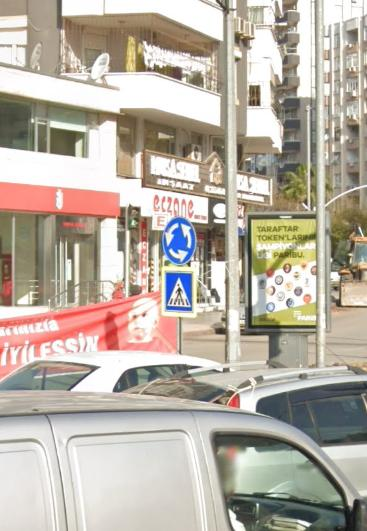crossroads: (163, 216, 198, 266)
